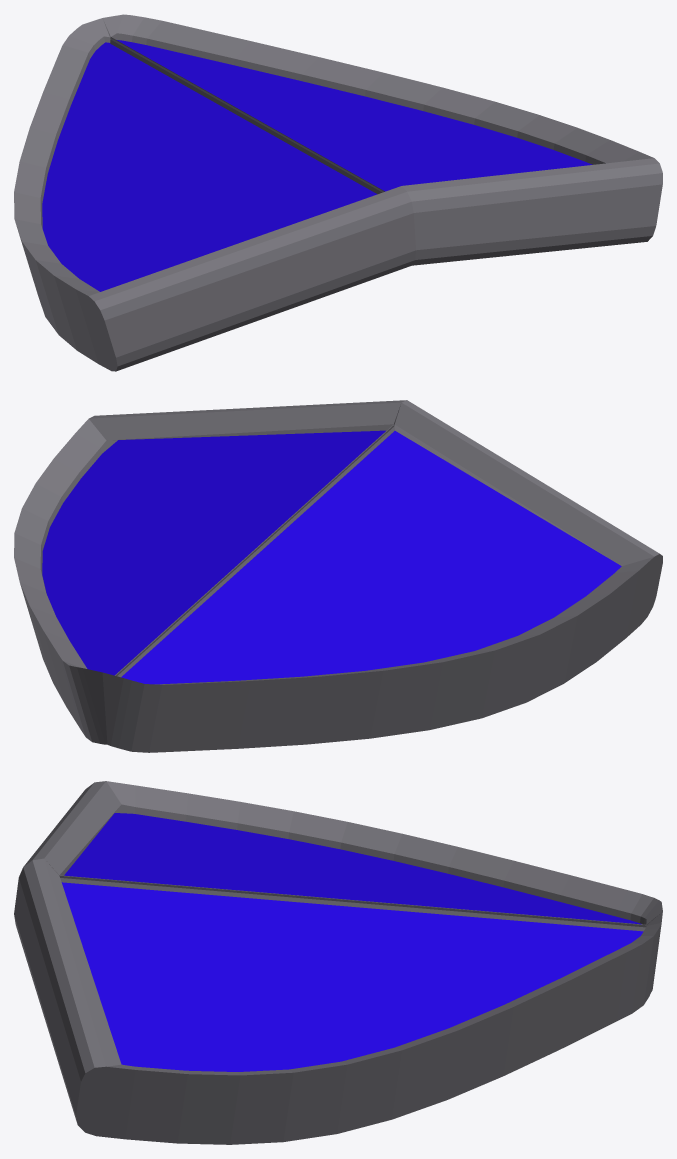
File: bouclier.glb
3 views of the same model, one above another, from view 1: azimuth 30°, elevation 25°; view 2: azimuth 150°, elevation 25°; view 3: azimuth 270°, elevation 25° (orthographic). The views are drawn at different scales.
Parts seen in each view (by area): view 1: Plan; view 2: Plan; view 3: Plan.
Part boxes in pixels (left/top/right/bottom): Plan: left=14, top=14, right=662, bottom=371; Plan: left=14, top=400, right=662, bottom=752; Plan: left=14, top=781, right=662, bottom=1144.
Bounding box in the file's own units: 2.26 × 0.6027 × 2.17.
